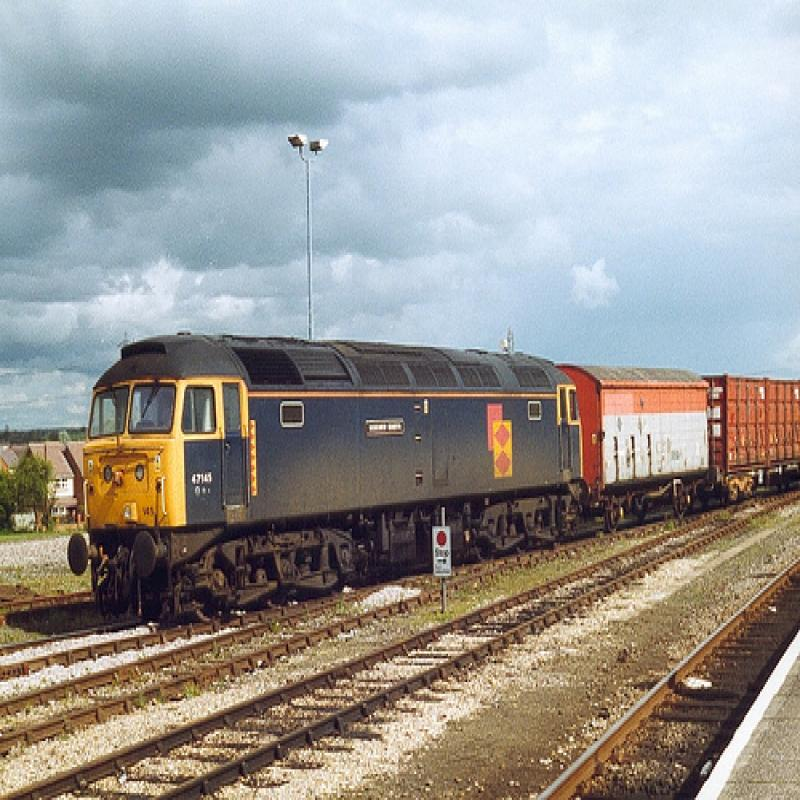train: (69, 334, 800, 626)
